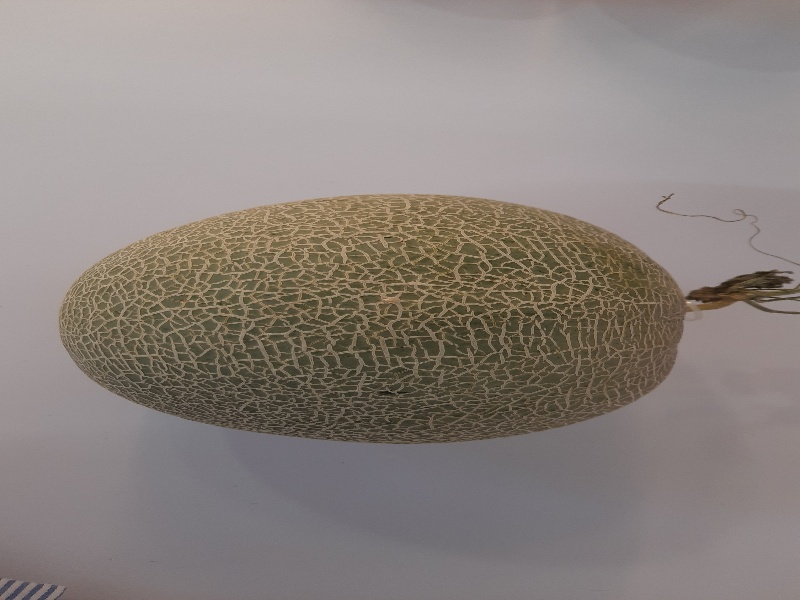fruit: (52, 189, 702, 457)
